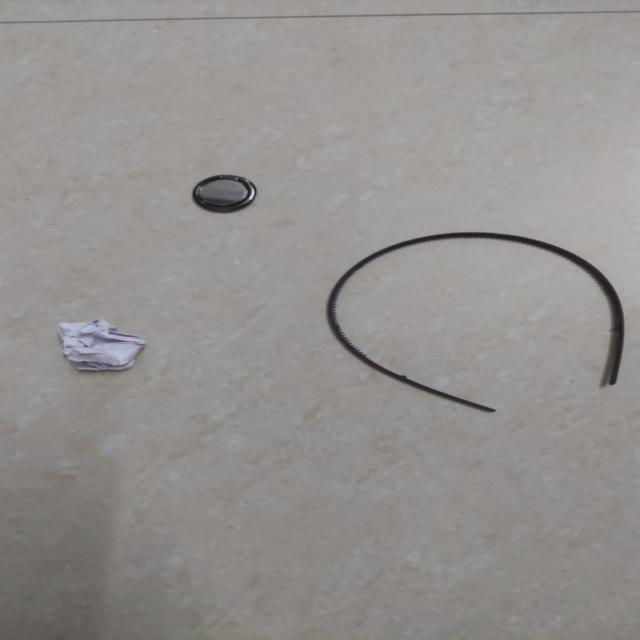metal: (192, 172, 258, 214)
paper: (54, 318, 150, 374)
plastic: (326, 230, 627, 414)
